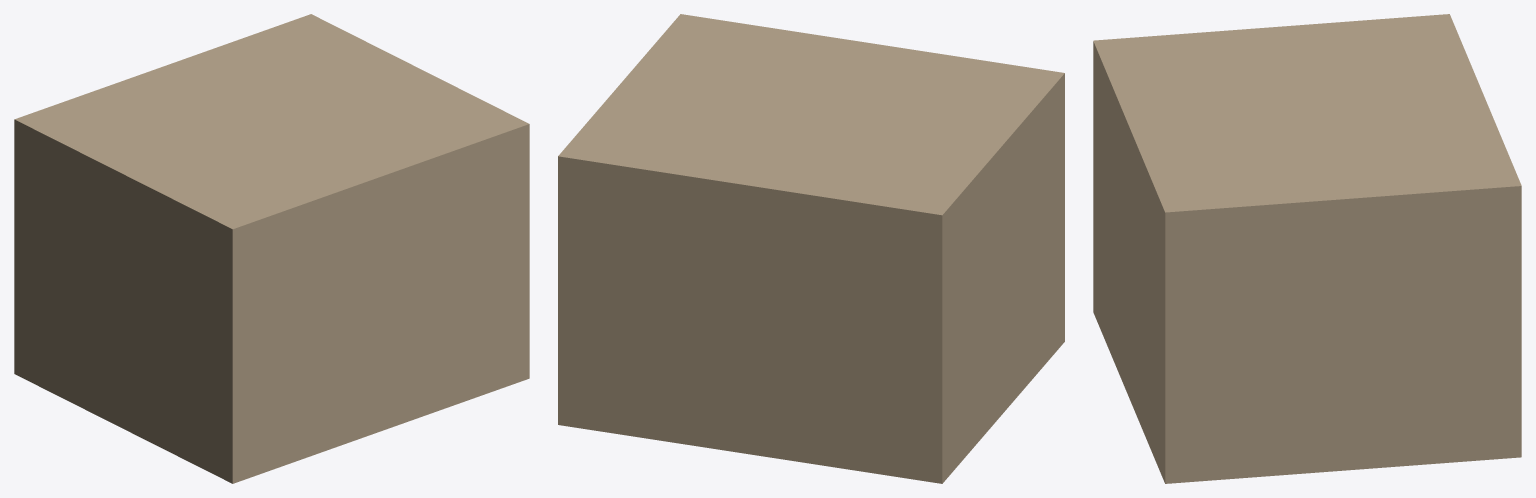
File: bld_111406414.dae
The picture shows the model from 3 angles, left to right: view 1: azimuth 30°, elevation 25°; view 2: azimuth 150°, elevation 25°; view 3: azimuth 270°, elevation 25°; orthographic projection. The views are drawn at different scales.
Parts seen in each view (by area): view 1: bld_111406414; view 2: bld_111406414; view 3: bld_111406414.
Boxes of the visible parts, box(x1,y1,x2,y2) form: bld_111406414: box(14, 14, 529, 483); bld_111406414: box(558, 14, 1064, 483); bld_111406414: box(1093, 14, 1521, 483).
Bounding box in the file's own units: 12.55 × 11.45 × 8.
